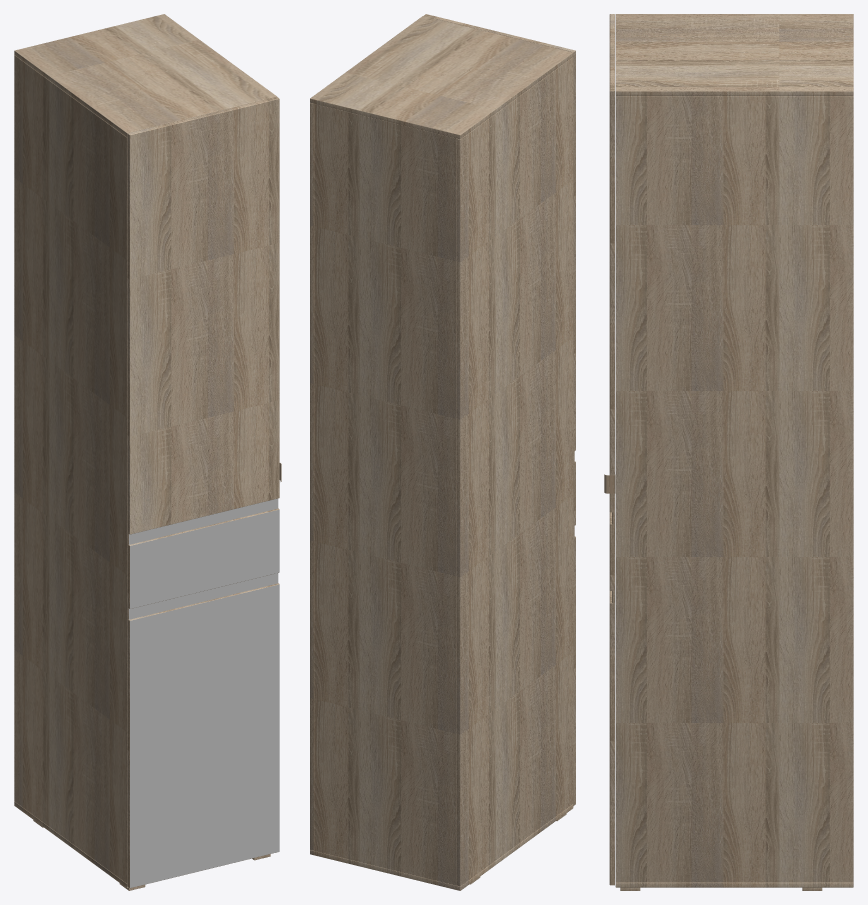
Rendered from table.gltf.
3 views of the same model, side by side, from view 1: azimuth 30°, elevation 25°; view 2: azimuth 150°, elevation 25°; view 3: azimuth 270°, elevation 25° (orthographic). The views are drawn at different scales.
Parts seen in each view (by area): view 1: Pinal; view 2: Pinal; view 3: Pinal.
Part boxes in pixels (x1,y1,x2,y2): Pinal: [14, 14, 281, 890]; Pinal: [310, 14, 575, 890]; Pinal: [604, 14, 853, 890].
Size of the model in its own units: 0.455 by 2.2 by 0.6193.
